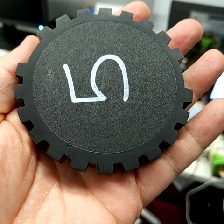gear: (12, 6, 195, 177)
missing: (14, 24, 53, 79), (168, 45, 195, 106)
